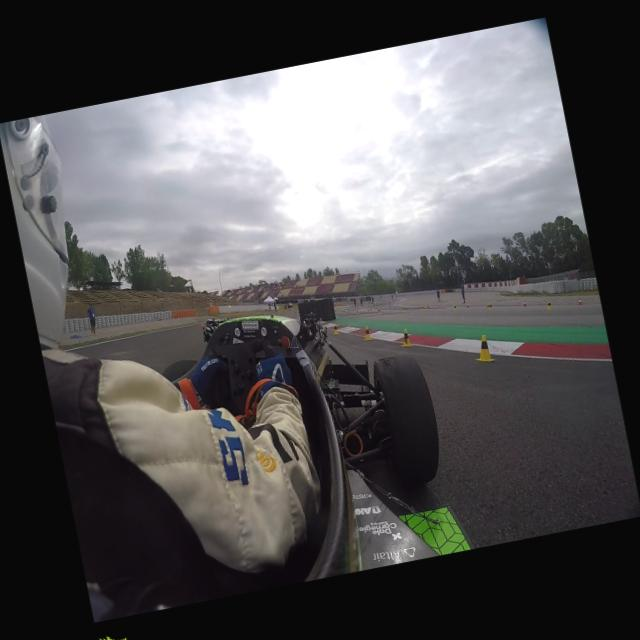orange_cone: (576, 298, 582, 305), (486, 300, 491, 308), (200, 322, 205, 329), (522, 300, 526, 308), (194, 320, 198, 326), (466, 302, 470, 308)
yellow_cone: (472, 334, 496, 364), (399, 328, 412, 348), (362, 326, 372, 342), (330, 322, 340, 336), (546, 301, 552, 311), (452, 304, 458, 310), (402, 305, 407, 312)
